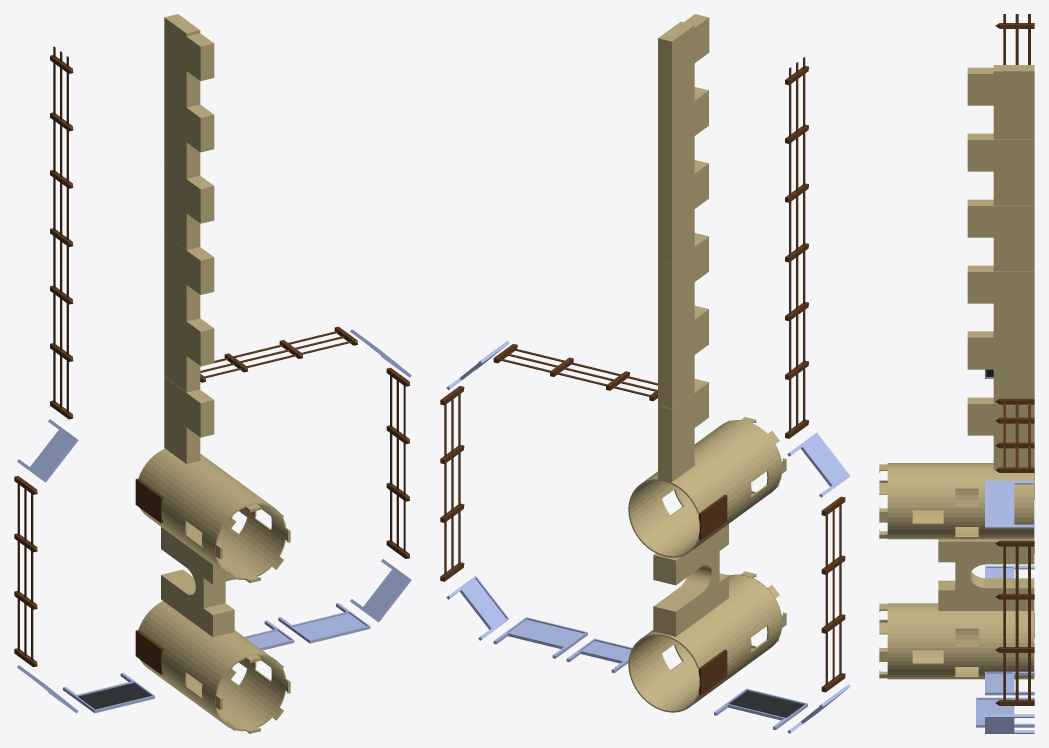
The model's file is _castle-hill-0-complex.obj.
3 views of the same model, side by side, from view 1: azimuth 30°, elevation 25°; view 2: azimuth 150°, elevation 25°; view 3: azimuth 270°, elevation 25° (orthographic). The views are drawn at different scales.
Visible parts, largest first — view 1: group_0_12759680, group_0_6175260, group_0_11452141, group_0_2829873; view 2: group_0_12759680, group_0_6175260, group_0_11452141, group_0_2829873; view 3: group_0_12759680, group_0_11452141, group_0_6175260.
Part boxes in pixels (<box>): group_0_12759680: <box>138,14,290,733</box>; group_0_6175260: <box>14,46,409,674</box>; group_0_11452141: <box>17,329,411,713</box>; group_0_2829873: <box>78,683,150,709</box>; group_0_12759680: <box>628,14,786,712</box>; group_0_6175260: <box>440,57,845,695</box>; group_0_11452141: <box>446,340,850,733</box>; group_0_2829873: <box>729,691,804,717</box>; group_0_12759680: <box>879,65,1034,679</box>; group_0_11452141: <box>976,369,1034,733</box>; group_0_6175260: <box>995,14,1034,705</box>.
Bounding box in the file's own units: 137 × 229 × 53.
